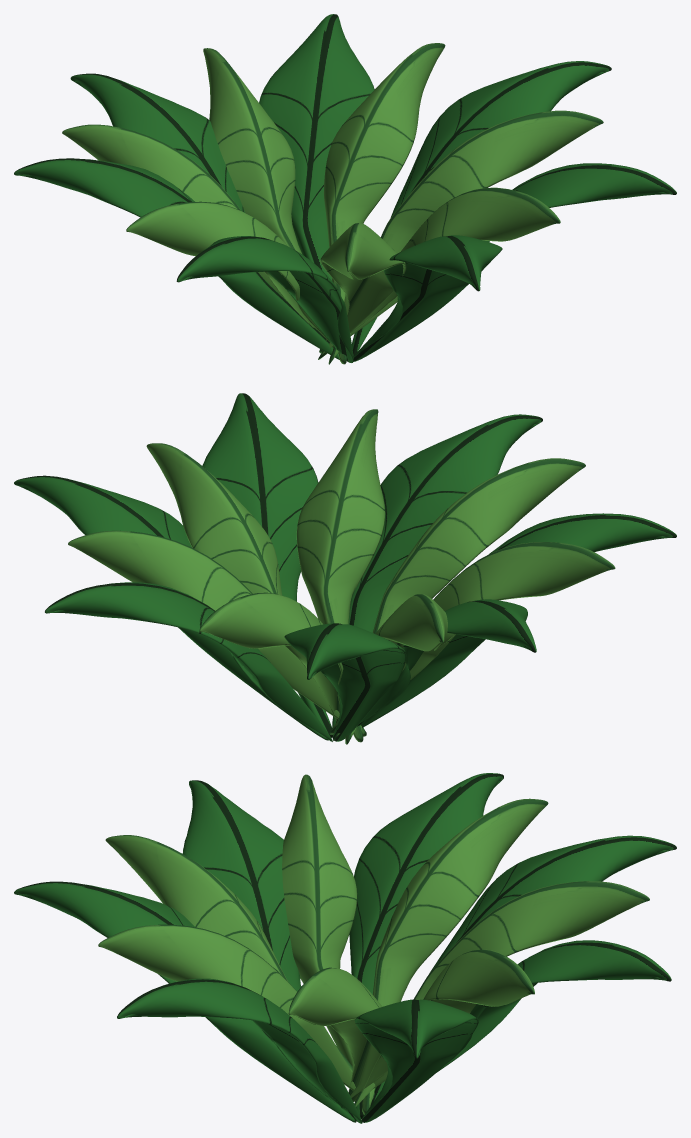
File: Plant4.fbx
3 views of the same model, one above another, from view 1: azimuth 30°, elevation 25°; view 2: azimuth 150°, elevation 25°; view 3: azimuth 270°, elevation 25° (orthographic). The views are drawn at different scales.
Parts seen in each view (by area): view 1: Plane.026, Plane.025; view 2: Plane.025, Plane.026; view 3: Plane.025, Plane.026.
Part boxes in pixels (left/top/right/bottom): Plane.026: left=14, top=14, right=676, bottom=362; Plane.025: left=62, top=43, right=603, bottom=364; Plane.025: left=68, top=409, right=615, bottom=744; Plane.026: left=14, top=393, right=676, bottom=741; Plane.025: left=98, top=774, right=649, bottom=1114; Plane.026: left=14, top=773, right=676, bottom=1123.
Size of the model in its own units: 519 by 200 by 517.
2 materials, 2 textured.
